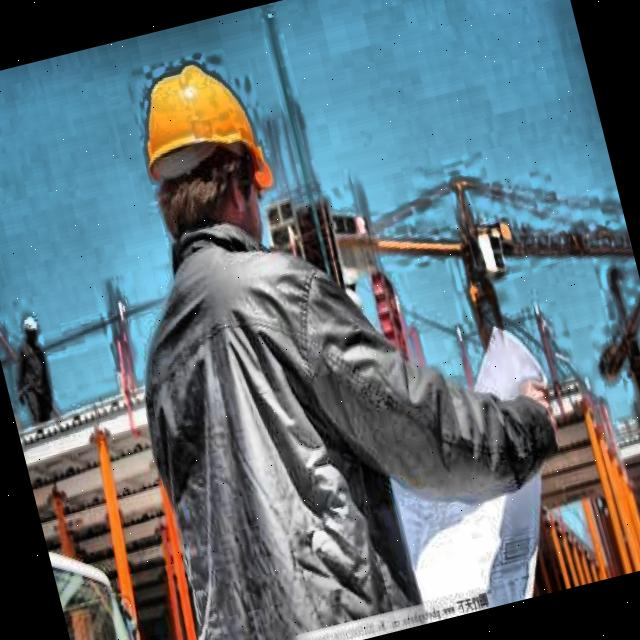helmet: (106, 28, 298, 286), (16, 311, 44, 348)
